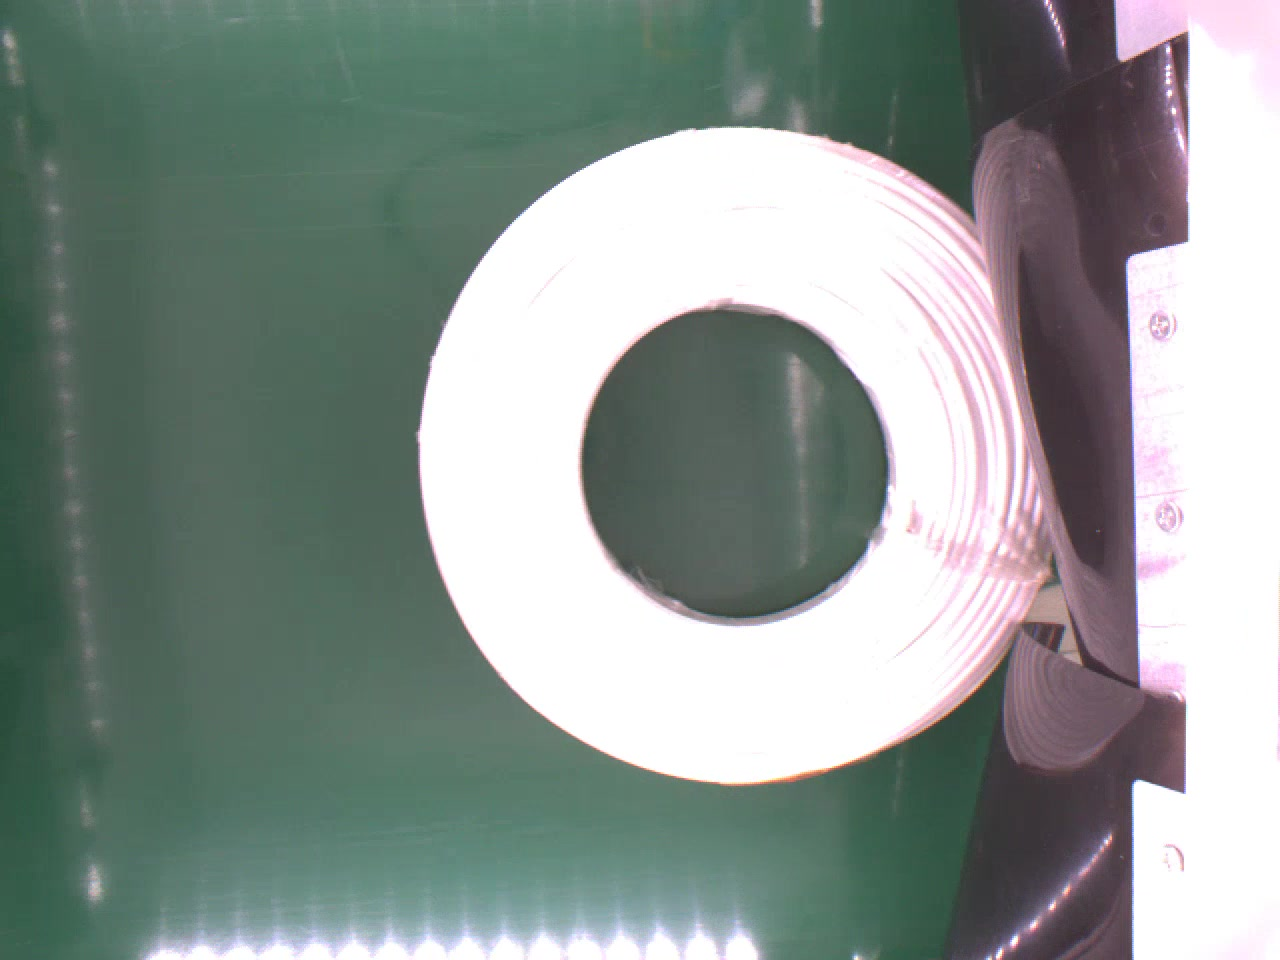white: (414, 123, 1049, 786)
